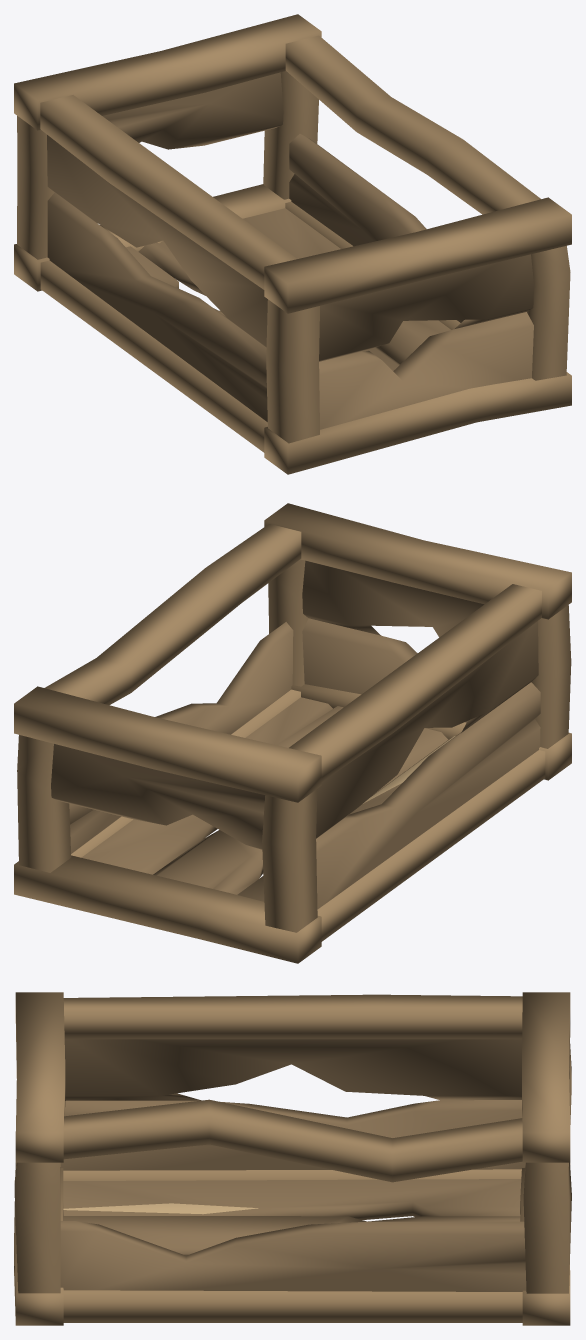
Rendered from rpgpp_av_crate_04.gltf.
The picture shows the model from 3 angles, top to bottom: view 1: azimuth 30°, elevation 25°; view 2: azimuth 150°, elevation 25°; view 3: azimuth 270°, elevation 25°; orthographic projection.
Visible parts, largest first — view 1: rpgpp_av_crate_04; view 2: rpgpp_av_crate_04; view 3: rpgpp_av_crate_04.
Boxes of the visible parts, left/top/right/bottom form: rpgpp_av_crate_04: left=14, top=14, right=571, bottom=474; rpgpp_av_crate_04: left=14, top=503, right=571, bottom=963; rpgpp_av_crate_04: left=14, top=992, right=571, bottom=1325.
Size of the model in its own units: 0.00712 by 0.00468 by 0.0117.
Materials: 1 (1 with a texture image).
